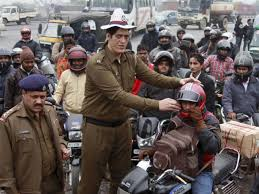helmet: (170, 77, 207, 118), (227, 49, 256, 82), (65, 43, 89, 75)
